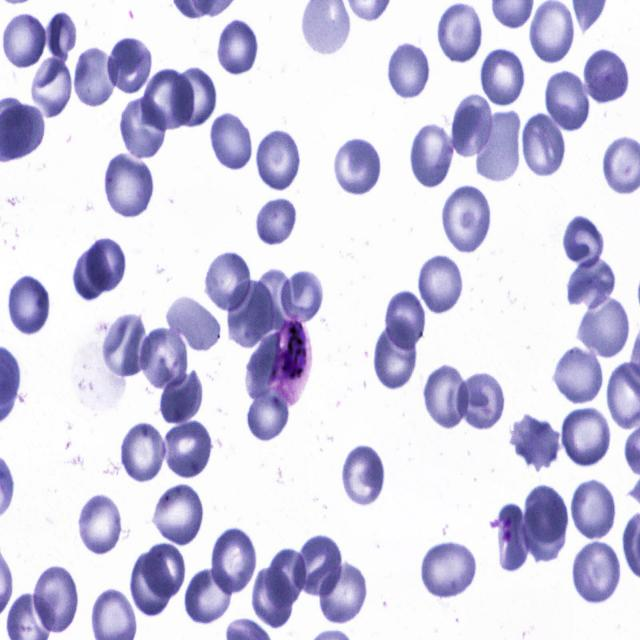red blood cell: (440, 183, 494, 255), (419, 538, 479, 601), (103, 151, 157, 220), (150, 481, 205, 548), (576, 292, 630, 359), (571, 539, 623, 606), (316, 559, 369, 624), (473, 111, 521, 182), (372, 315, 417, 390), (165, 295, 221, 354), (211, 525, 257, 596), (138, 326, 188, 391), (521, 109, 568, 178), (101, 312, 150, 378), (559, 407, 611, 469), (408, 121, 456, 188), (478, 43, 526, 110), (120, 92, 168, 159), (143, 67, 194, 130), (550, 345, 604, 404), (228, 279, 274, 348), (422, 364, 470, 430), (244, 268, 292, 334), (544, 67, 592, 132), (564, 254, 616, 314), (570, 476, 617, 542), (119, 420, 168, 483), (456, 371, 506, 432), (297, 533, 343, 599), (204, 250, 252, 313), (77, 494, 125, 557), (36, 563, 78, 635), (162, 418, 214, 476), (255, 128, 302, 192), (418, 251, 464, 316), (342, 443, 388, 508), (334, 135, 383, 195), (74, 45, 119, 110), (451, 94, 495, 160), (529, 0, 574, 63), (524, 497, 566, 564), (172, 67, 218, 128), (183, 568, 232, 625), (31, 56, 75, 118), (252, 567, 295, 630), (7, 275, 51, 336), (132, 551, 173, 616), (108, 35, 153, 94), (439, 3, 481, 66), (211, 111, 254, 172), (2, 13, 48, 70), (216, 19, 262, 76), (583, 47, 629, 104), (512, 414, 560, 468), (246, 383, 293, 438), (265, 549, 309, 607), (384, 290, 426, 350), (560, 212, 605, 268), (387, 42, 432, 98), (526, 484, 568, 544), (142, 542, 185, 600), (244, 332, 280, 401), (159, 369, 204, 424), (277, 272, 325, 322), (496, 503, 529, 571), (85, 238, 127, 291), (255, 197, 298, 247), (73, 248, 112, 300), (47, 13, 77, 62)
trophozoite: (266, 312, 312, 407)
